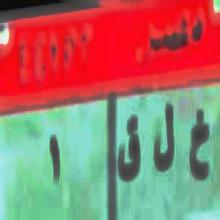1: (48, 129, 63, 191)
khaa: (187, 103, 209, 192)
laam: (153, 103, 175, 180)
qaaf: (114, 111, 144, 182)
